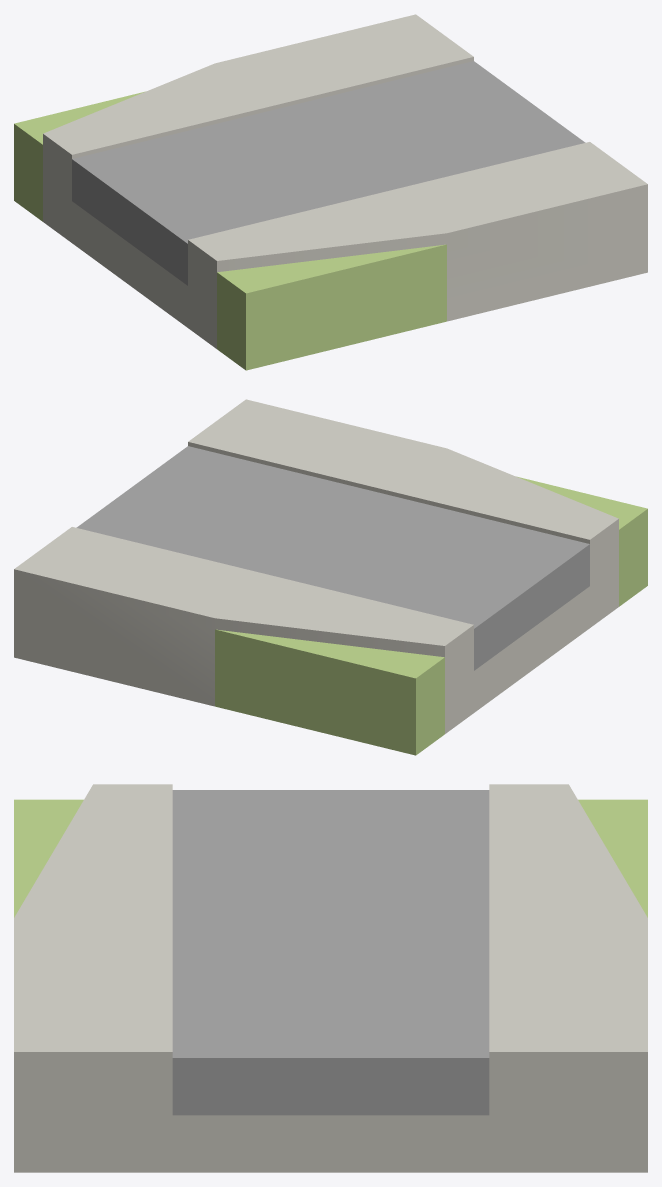
The model's file is road_tile_031.glb.
3 views of the same model, one above another, from view 1: azimuth 30°, elevation 25°; view 2: azimuth 150°, elevation 25°; view 3: azimuth 270°, elevation 25° (orthographic). The views are drawn at different scales.
Visible parts, largest first — view 1: roadTile_031; view 2: roadTile_031; view 3: roadTile_031.
Part boxes in pixels (x1,y1,x2,y2): roadTile_031: (14,14,647,370); roadTile_031: (14,399,647,755); roadTile_031: (14,784,647,1172).
Size of the model in its own units: 3 by 0.63 by 3.
